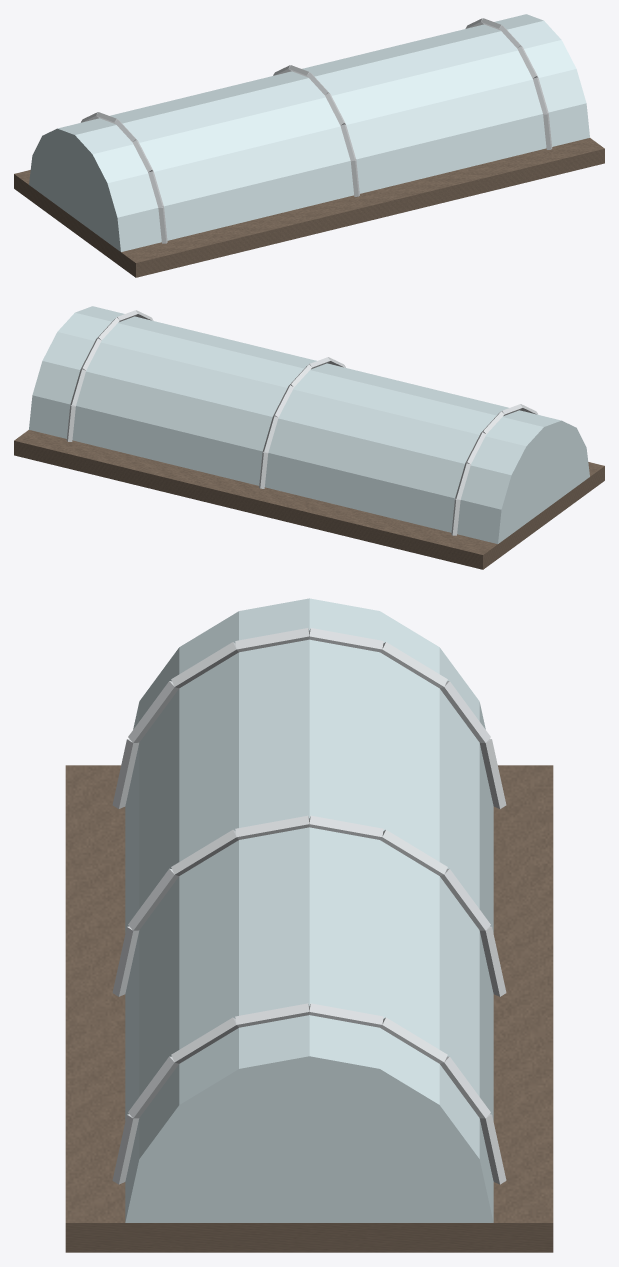
The model's file is allotments-and-community-garden-row-cloche-8402264b__35136.glb.
3 views of the same model, one above another, from view 1: azimuth 30°, elevation 25°; view 2: azimuth 150°, elevation 25°; view 3: azimuth 270°, elevation 25° (orthographic). The views are drawn at different scales.
Visible parts, largest first — view 1: row-cloche-glass, row-cloche-soil, row-cloche-galv; view 2: row-cloche-glass, row-cloche-soil, row-cloche-galv; view 3: row-cloche-glass, row-cloche-soil, row-cloche-galv.
Part boxes in pixels (<box>): row-cloche-glass: <box>29,14,589,251</box>; row-cloche-soil: <box>14,138,604,277</box>; row-cloche-galv: <box>81,18,552,243</box>; row-cloche-glass: <box>29,306,589,543</box>; row-cloche-soil: <box>14,430,604,569</box>; row-cloche-galv: <box>66,310,537,535</box>; row-cloche-glass: <box>125,598,493,1222</box>; row-cloche-soil: <box>65,765,553,1252</box>; row-cloche-galv: <box>112,628,506,1184</box>.
Size of the model in its own units: 2 by 0.4238 by 0.9.
4 materials, 1 textured.
